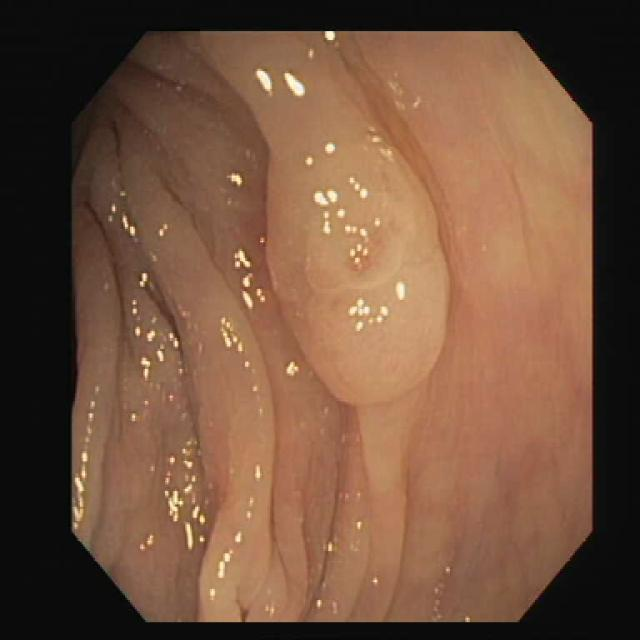tumor: (268, 116, 448, 404)
